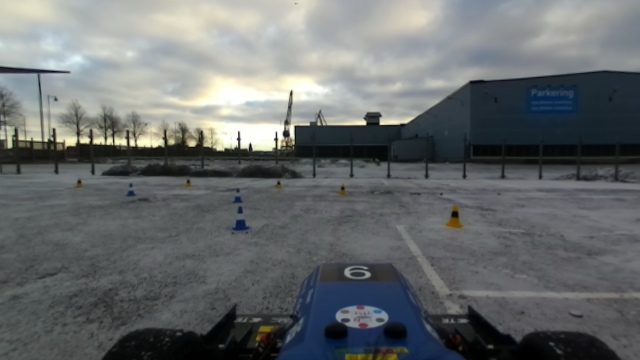blue: (228, 204, 250, 232)
yellow: (445, 203, 465, 229)
